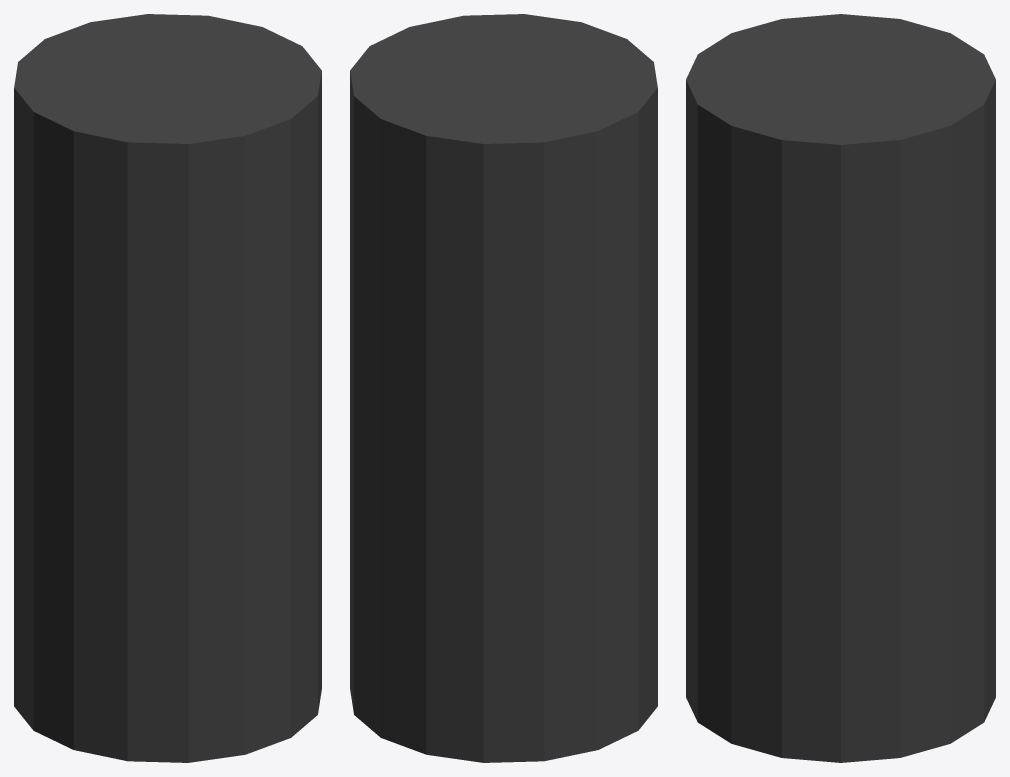
File: aluminum_extender.obj
3 views of the same model, side by side, from view 1: azimuth 30°, elevation 25°; view 2: azimuth 150°, elevation 25°; view 3: azimuth 270°, elevation 25° (orthographic).
Visible parts, largest first — view 1: Cylinder; view 2: Cylinder; view 3: Cylinder.
Boxes of the visible parts, left/top/right/bottom form: Cylinder: left=14, top=14, right=321, bottom=762; Cylinder: left=350, top=14, right=657, bottom=762; Cylinder: left=686, top=14, right=995, bottom=762.
Size of the model in its own units: 0.2 by 0.444 by 0.2.
